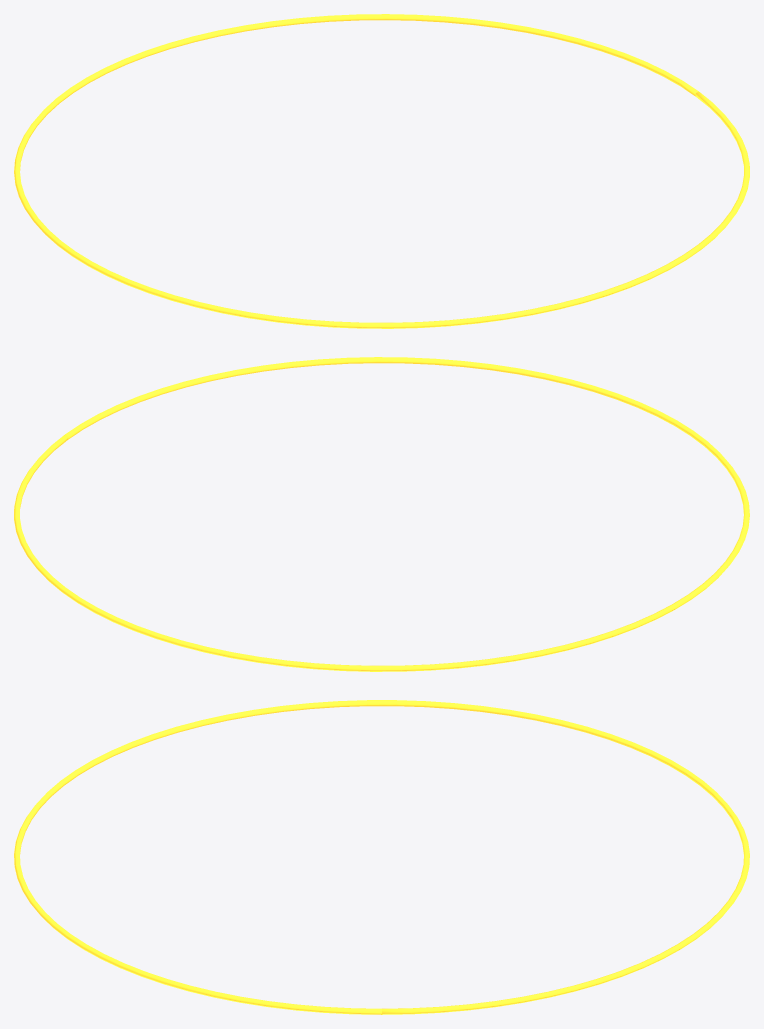
File: SM_CoreOrbit_2.fbx
The picture shows the model from 3 angles, top to bottom: view 1: azimuth 30°, elevation 25°; view 2: azimuth 150°, elevation 25°; view 3: azimuth 270°, elevation 25°; orthographic projection.
Parts seen in each view (by area): view 1: SM_CoreOrbit_2.001; view 2: SM_CoreOrbit_2.001; view 3: SM_CoreOrbit_2.001.
Boxes of the visible parts, x1=… form: SM_CoreOrbit_2.001: x1=14, y1=14, x2=749, y2=328; SM_CoreOrbit_2.001: x1=14, y1=357, x2=749, y2=671; SM_CoreOrbit_2.001: x1=14, y1=700, x2=749, y2=1014.
Size of the model in its own units: 565 by 565 by 4.76.
